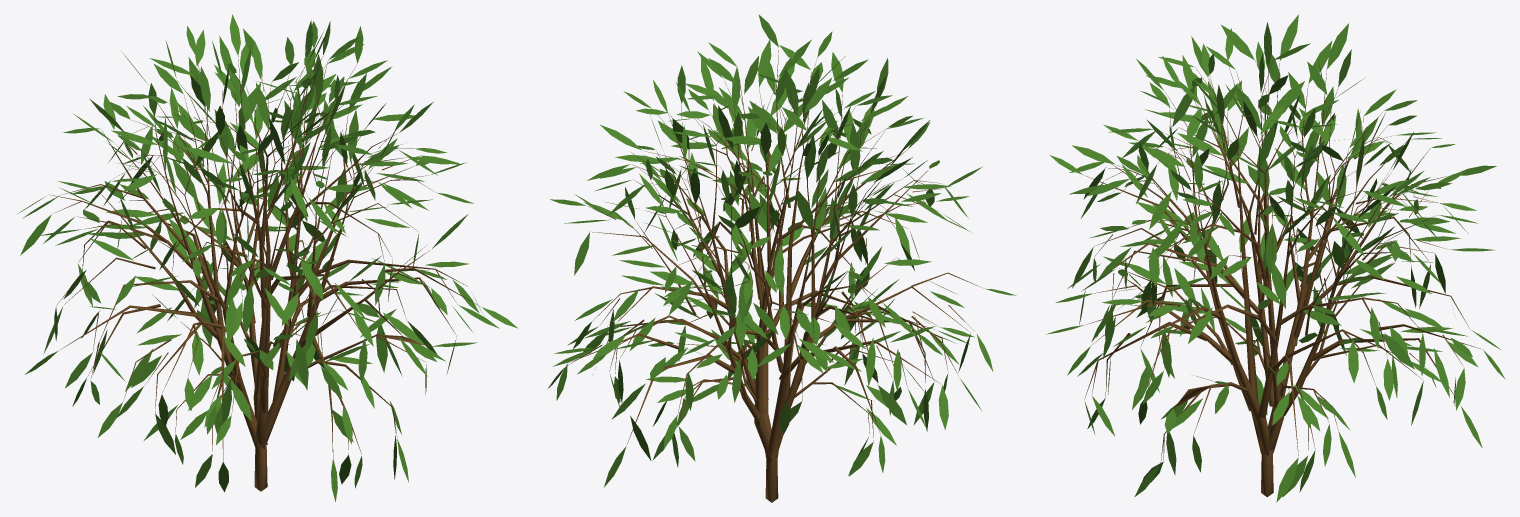
Rendered from bush.fbx.
The picture shows the model from 3 angles, left to right: view 1: azimuth 30°, elevation 25°; view 2: azimuth 150°, elevation 25°; view 3: azimuth 270°, elevation 25°; orthographic projection. The views are drawn at different scales.
Parts seen in each view (by area): view 1: leaves.003, tree.002; view 2: leaves.003, tree.002; view 3: leaves.003, tree.002.
Boxes of the visible parts, x1,y1,x2,y2 form: leaves.003: [18, 14, 517, 501]; tree.002: [49, 56, 480, 491]; leaves.003: [548, 14, 1016, 487]; tree.002: [568, 50, 983, 502]; leaves.003: [1047, 14, 1505, 502]; tree.002: [1083, 61, 1482, 497].
Bounding box in the file's own units: 171 × 197 × 179.
